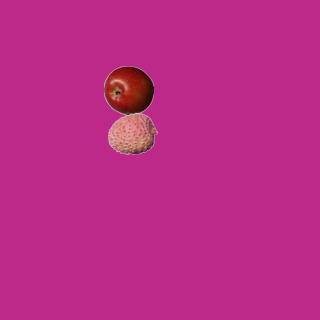Apple Braeburn: (103, 65, 153, 115)
Lychee: (107, 108, 157, 158)
